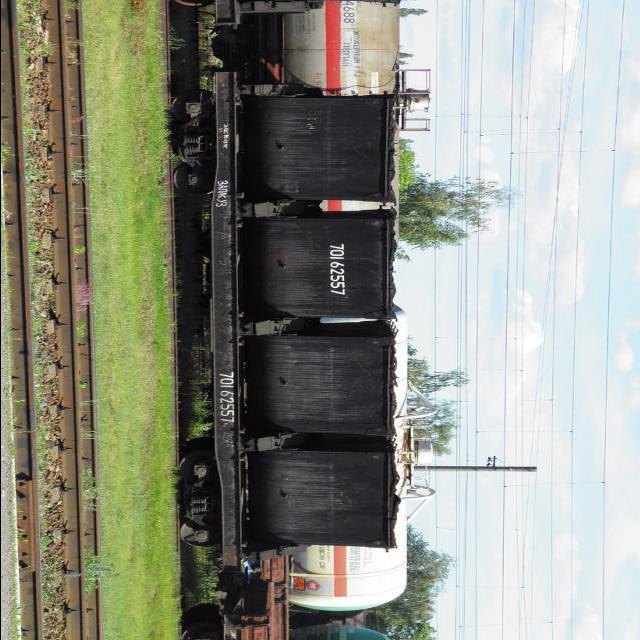wagon: (327, 242, 348, 297), (216, 371, 236, 423)
